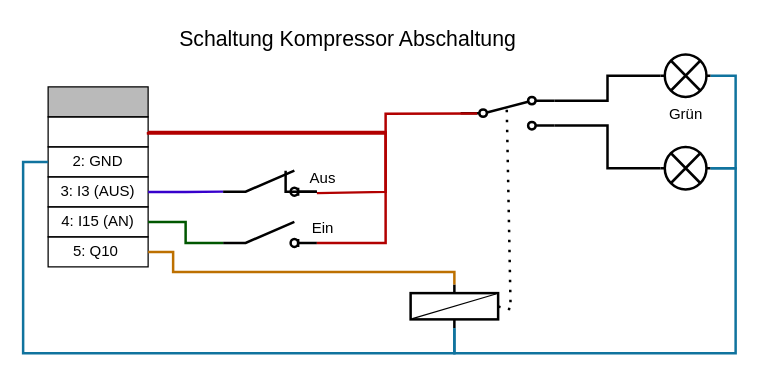
The diagram is 759 pixels wide and 376 high, and some of its shapes have lost their labels. Each missing label, with the centre of its shape:
"1: +12V" belongs at (97,131).
"Rot" belongs at (685,167).
"X1" belongs at (97,101).
